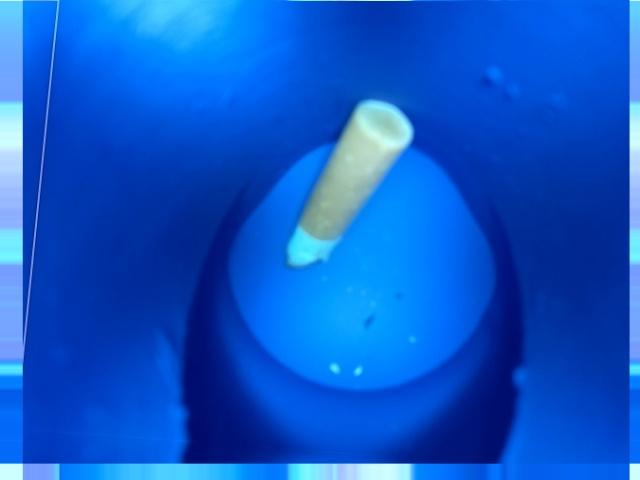megot: (279, 88, 424, 278)
